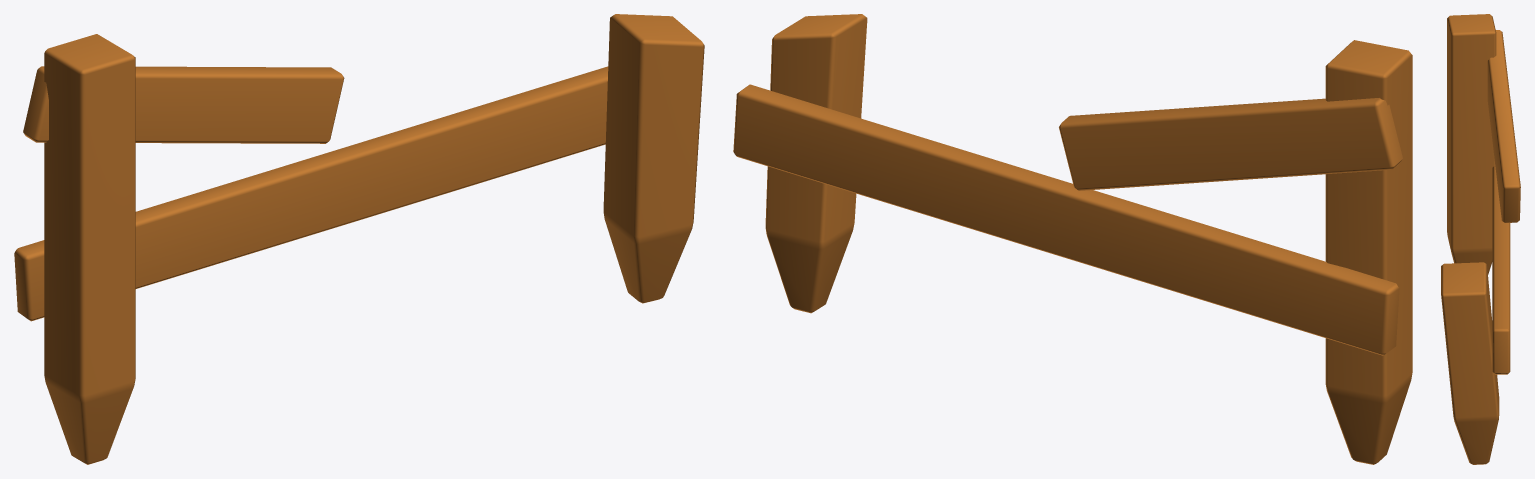
Rendered from fence_02.fbx.
The picture shows the model from 3 angles, left to right: view 1: azimuth 30°, elevation 25°; view 2: azimuth 150°, elevation 25°; view 3: azimuth 270°, elevation 25°; orthographic projection. The views are drawn at different scales.
Parts seen in each view (by area): view 1: fence_04; view 2: fence_04; view 3: fence_04.
Part boxes in pixels (bbox=[...]): fence_04: bbox=[14, 14, 704, 464]; fence_04: bbox=[733, 14, 1412, 464]; fence_04: bbox=[1441, 14, 1520, 464].
Bounding box in the file's own units: 161 × 94.22 × 25.19.
